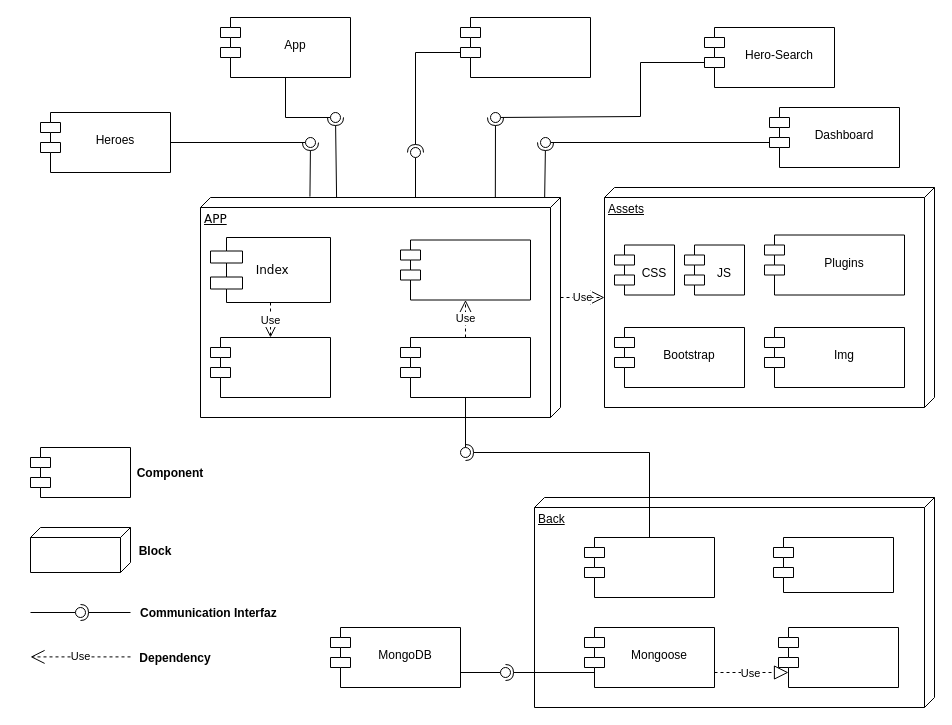
Some shapes in this 952 by 725 pixel diagram are drawn without their labels. The shapes that lost their labels are listed below. From the top down, each one's centre as x and y in pixels, then its label:
At pixel 525 47: "Hero-Detail".
At pixel 465 269: "App Routing".
At pixel 270 367: "Module".
At pixel 465 367: "Services".
At pixel 649 567: "Server".
At pixel 833 564: "Route".
At pixel 838 657: "Model".
